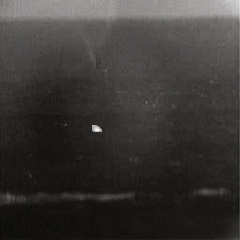Target: (90, 124, 103, 133)
